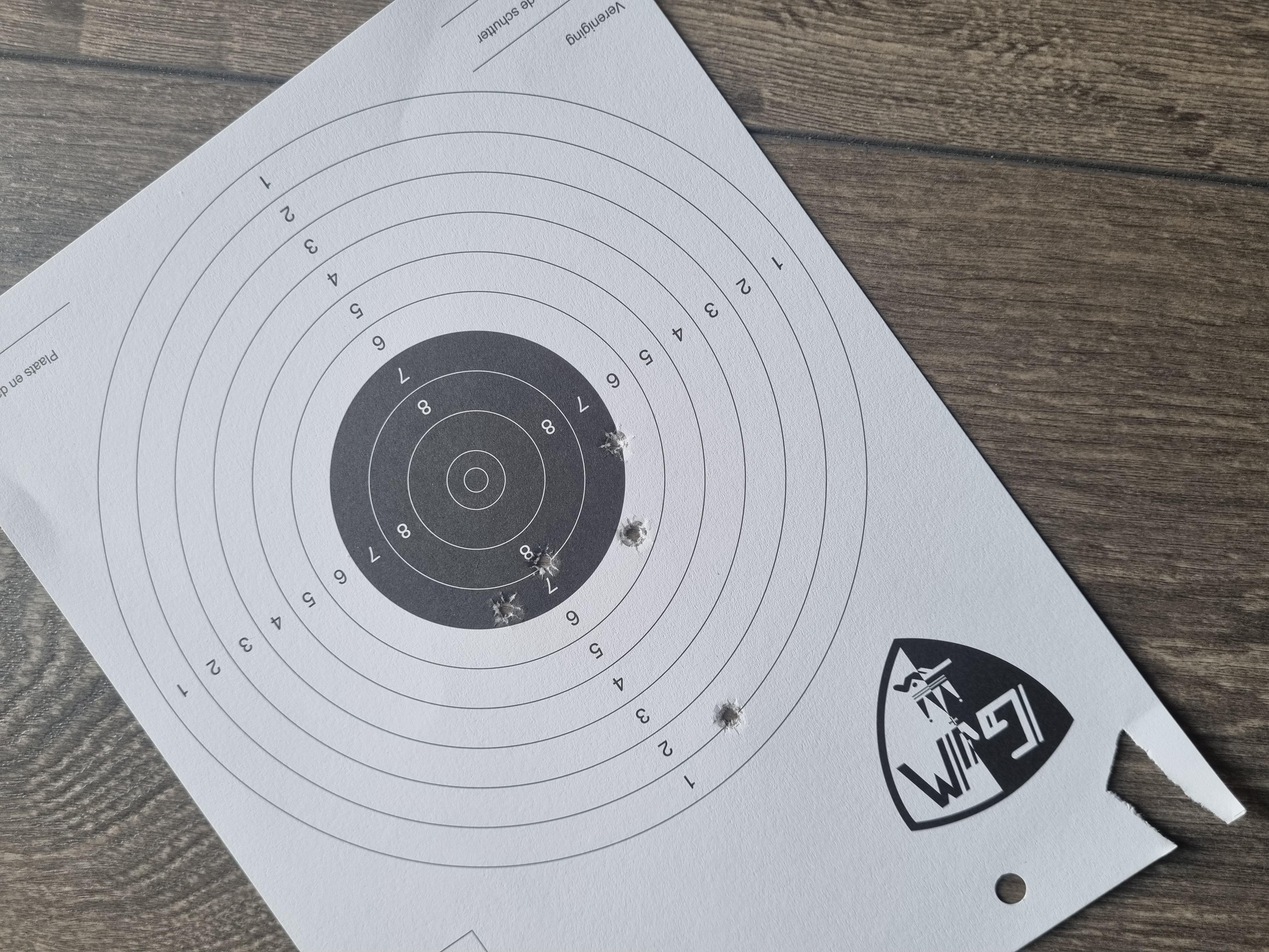hole: (528, 462, 580, 489), (495, 396, 544, 422), (430, 367, 477, 394), (291, 534, 337, 559), (657, 448, 701, 474)
